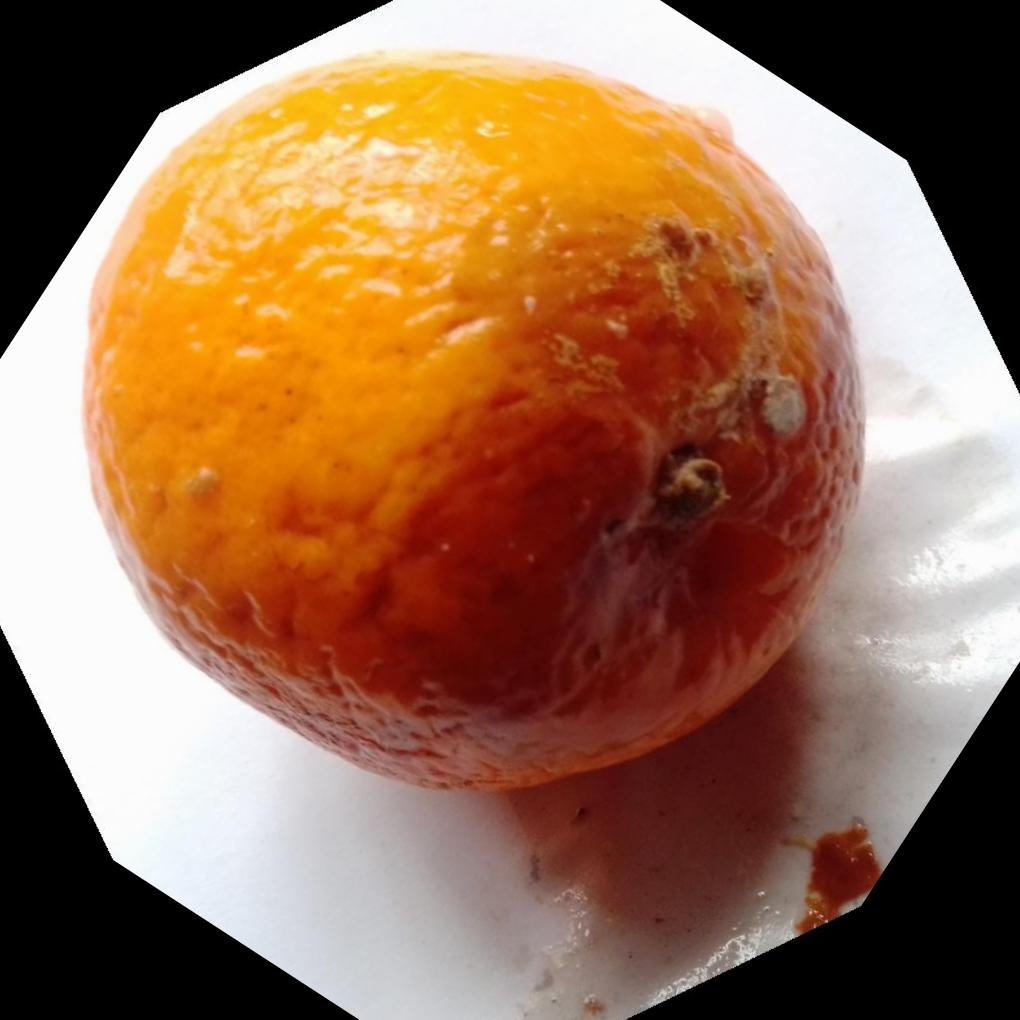FreshOrange: (81, 50, 870, 797)
